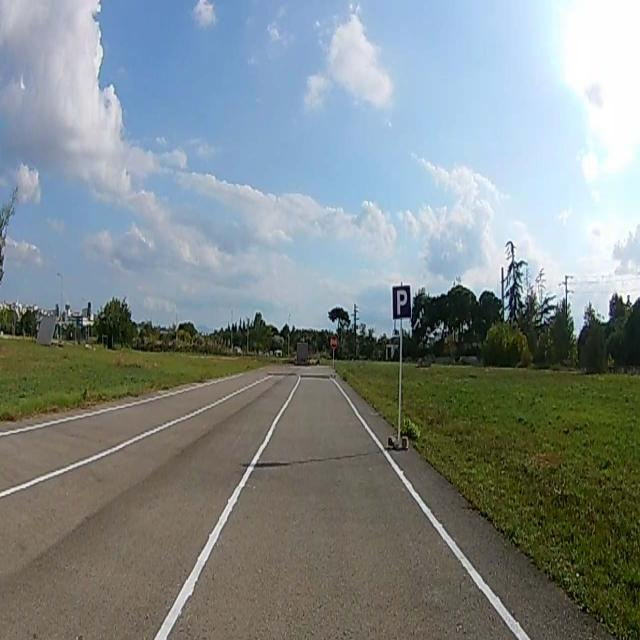park: (392, 287, 411, 318)
